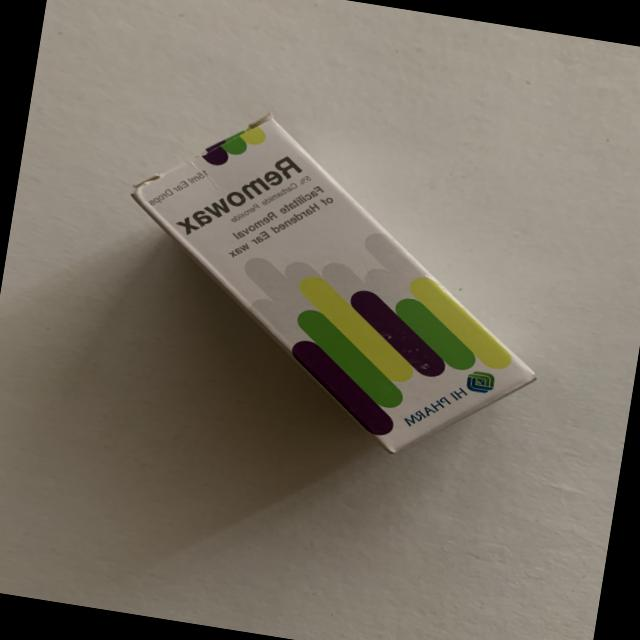medicine_packaging: (71, 80, 578, 492)
